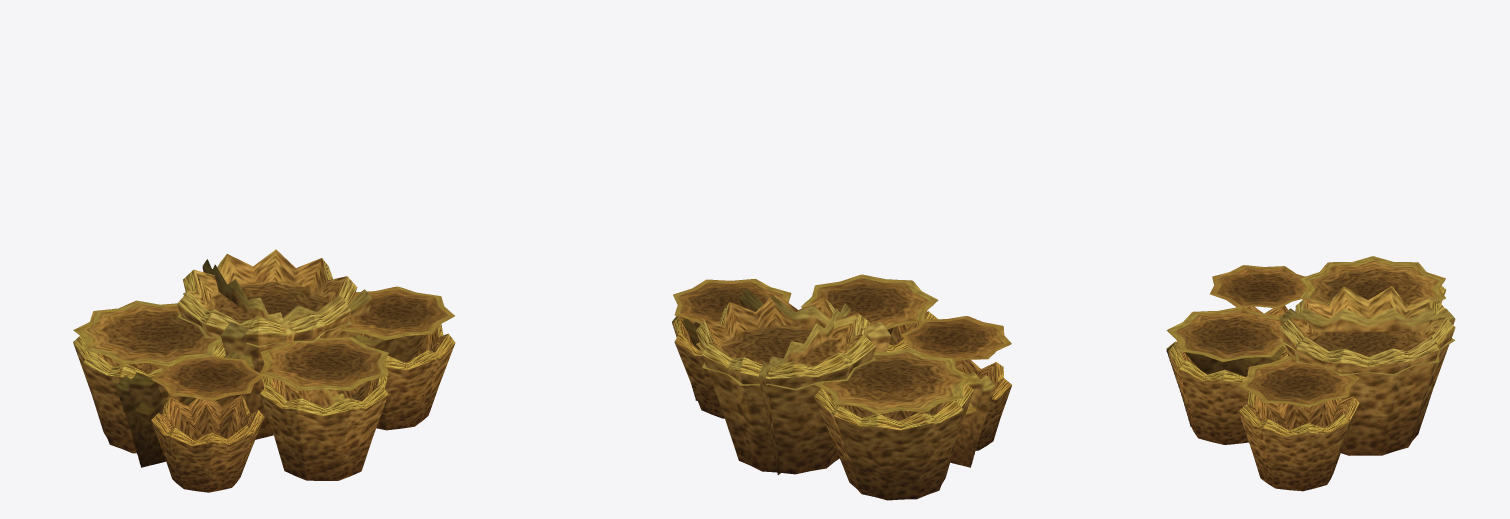
File: Coral-09-Estrelas-Douradas.glb
3 views of the same model, side by side, from view 1: azimuth 30°, elevation 25°; view 2: azimuth 150°, elevation 25°; view 3: azimuth 270°, elevation 25° (orthographic). The views are drawn at different scales.
Visible parts, largest first — view 1: Colonia, Coral-09-Estrelas-Douradas impostor; view 2: Colonia, Coral-09-Estrelas-Douradas impostor; view 3: Colonia, Coral-09-Estrelas-Douradas impostor.
Part boxes in pixels (<box>): Colonia: <box>73,249,455,492</box>; Coral-09-Estrelas-Douradas impostor: <box>73,259,454,479</box>; Colonia: <box>673,293,1011,500</box>; Coral-09-Estrelas-Douradas impostor: <box>672,274,1011,474</box>; Colonia: <box>1166,285,1455,491</box>; Coral-09-Estrelas-Douradas impostor: <box>1166,256,1455,426</box>.
Size of what is drawn, in the model's own units: 0.8868 by 0.8868 by 0.8868.
Materials: 2 (2 with a texture image).
